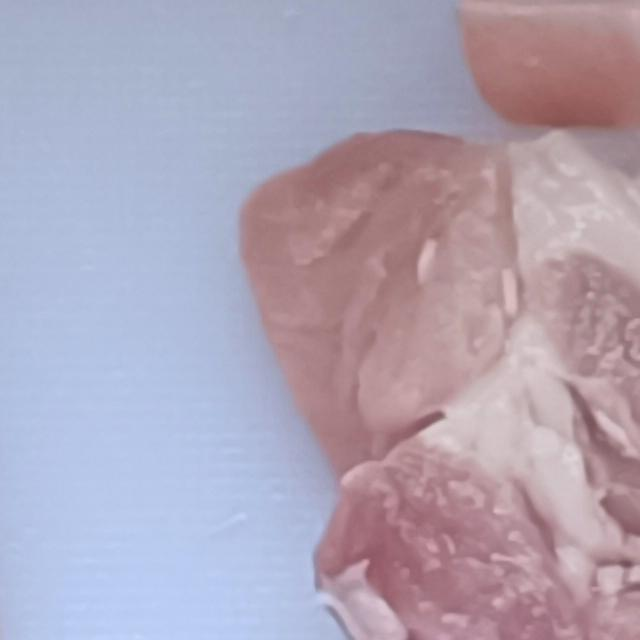pork: (256, 0, 640, 640)
